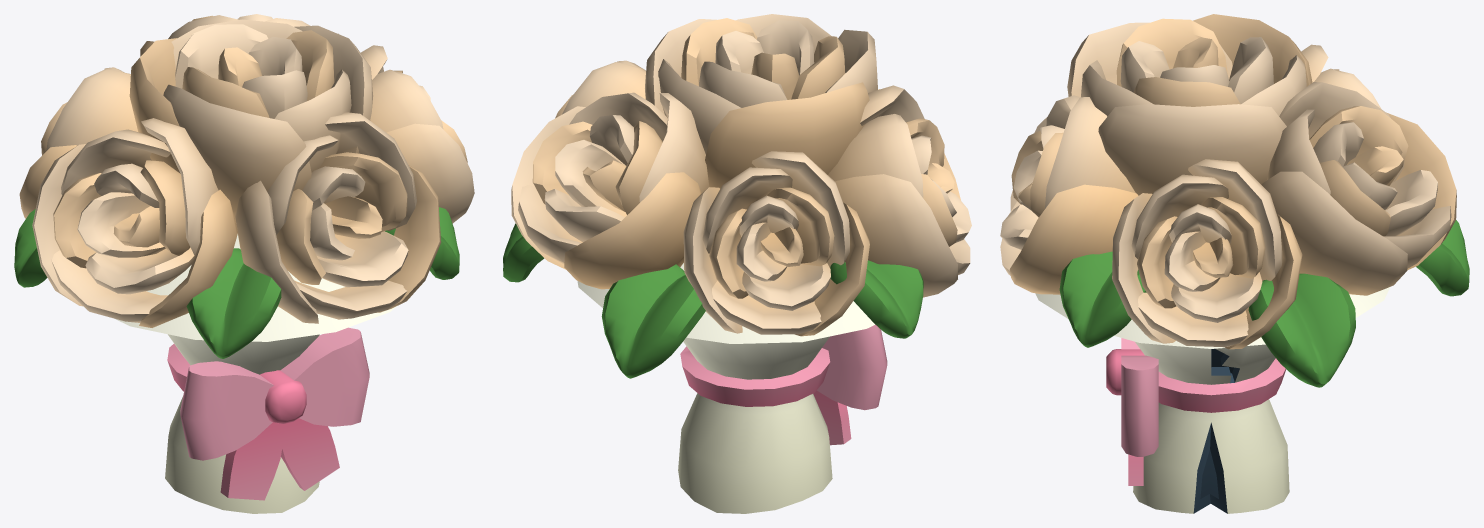
The model's file is WeddingBouqet.fbx.
3 renders of one model, left to right at view 1: azimuth 30°, elevation 25°; view 2: azimuth 150°, elevation 25°; view 3: azimuth 270°, elevation 25°, orthographic. The views are drawn at different scales.
Parts seen in each view (by area): view 1: Bouqet; view 2: Bouqet; view 3: Bouqet.
Part boxes in pixels (x1,y1,x2,y2): Bouqet: (14,14,474,513); Bouqet: (503,14,971,513); Bouqet: (1000,14,1469,513).
Bounding box in the file's own units: 42.09 × 43.29 × 41.46.
